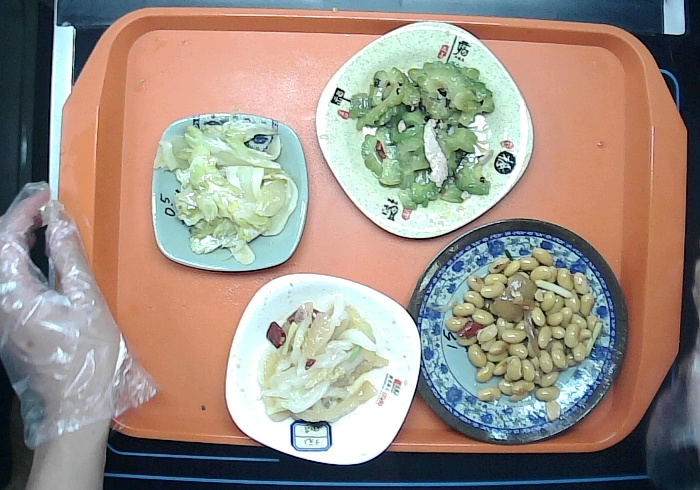NLDX-Bai_Se_Xiao_Fang_Die: (225, 272, 422, 466)
NLDX-Fu_Zi_Fang_Die: (313, 21, 535, 242)
NLDX-Qing_Hua_Xiao_Fang_Die: (150, 112, 308, 271)
NLDX-Qing_Hua_Yuan_Die: (406, 219, 630, 444)
